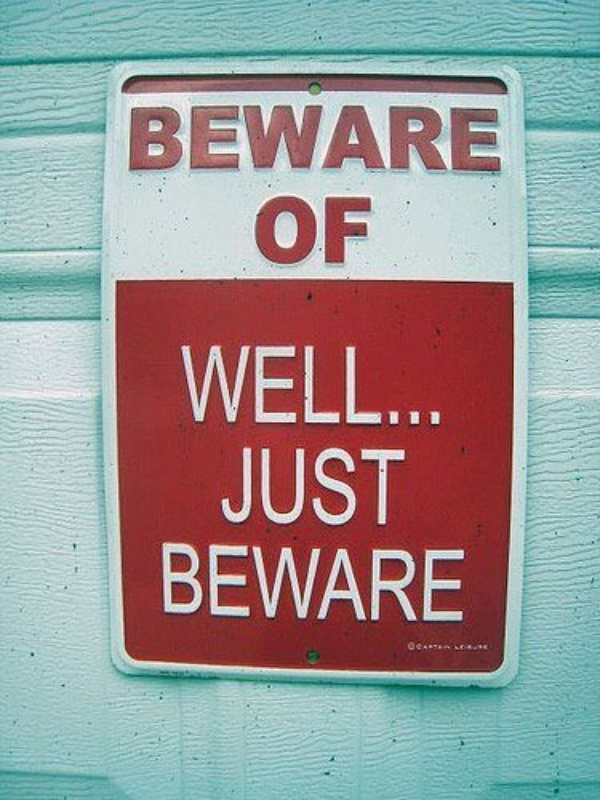text: (177, 340, 192, 428), (193, 340, 208, 428), (209, 340, 224, 428), (225, 340, 240, 428), (241, 340, 256, 428), (257, 340, 272, 428), (273, 340, 288, 428), (289, 340, 304, 428), (305, 340, 320, 428), (321, 340, 336, 428), (337, 340, 352, 428), (353, 340, 368, 428), (369, 340, 384, 428), (385, 340, 400, 428), (401, 340, 416, 428), (417, 340, 432, 428), (433, 340, 448, 428), (241, 445, 256, 530), (257, 445, 272, 530), (273, 445, 288, 530), (289, 445, 304, 530), (305, 445, 320, 530), (321, 445, 336, 530), (337, 445, 352, 530), (353, 445, 368, 530), (369, 445, 384, 530), (385, 445, 400, 530), (161, 541, 176, 625), (177, 541, 192, 625), (193, 541, 208, 625), (209, 541, 224, 625), (225, 541, 240, 625), (241, 541, 256, 625), (257, 541, 272, 625), (273, 541, 288, 625), (289, 541, 304, 625), (305, 541, 320, 625), (321, 541, 336, 625), (337, 541, 352, 625), (353, 541, 368, 625), (369, 541, 384, 625), (385, 541, 400, 625), (401, 541, 416, 625), (417, 541, 432, 625), (433, 541, 448, 625), (449, 541, 464, 625), (129, 100, 144, 180), (145, 100, 160, 180), (161, 100, 176, 180), (177, 100, 192, 180), (193, 100, 208, 180), (209, 100, 224, 180), (225, 100, 240, 180), (241, 100, 256, 180), (257, 100, 272, 180), (273, 100, 288, 180), (289, 100, 304, 180), (305, 100, 320, 180), (321, 100, 336, 180), (337, 100, 352, 180), (353, 100, 368, 180), (369, 100, 384, 180), (385, 100, 400, 180), (401, 100, 416, 180), (417, 100, 432, 180), (433, 100, 448, 180), (449, 100, 464, 180), (465, 100, 480, 180), (481, 100, 496, 180), (273, 194, 288, 268), (289, 194, 304, 268), (305, 194, 320, 268), (321, 194, 336, 268), (337, 194, 352, 268), (353, 194, 368, 268), (260, 194, 272, 268), (497, 100, 508, 180), (401, 445, 409, 530), (369, 194, 378, 268), (124, 100, 128, 180), (417, 637, 432, 655), (433, 637, 448, 655), (449, 637, 464, 655), (465, 637, 480, 655), (449, 340, 452, 428), (237, 445, 240, 530), (402, 637, 416, 655), (481, 637, 493, 655), (159, 541, 160, 625), (465, 541, 466, 625)
